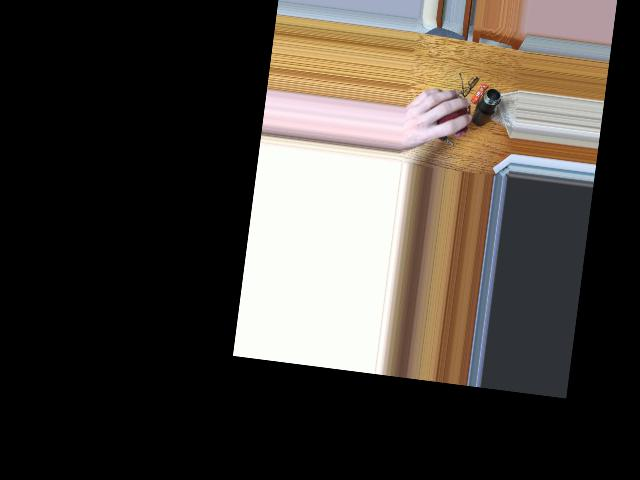onion: (428, 93, 464, 135)
